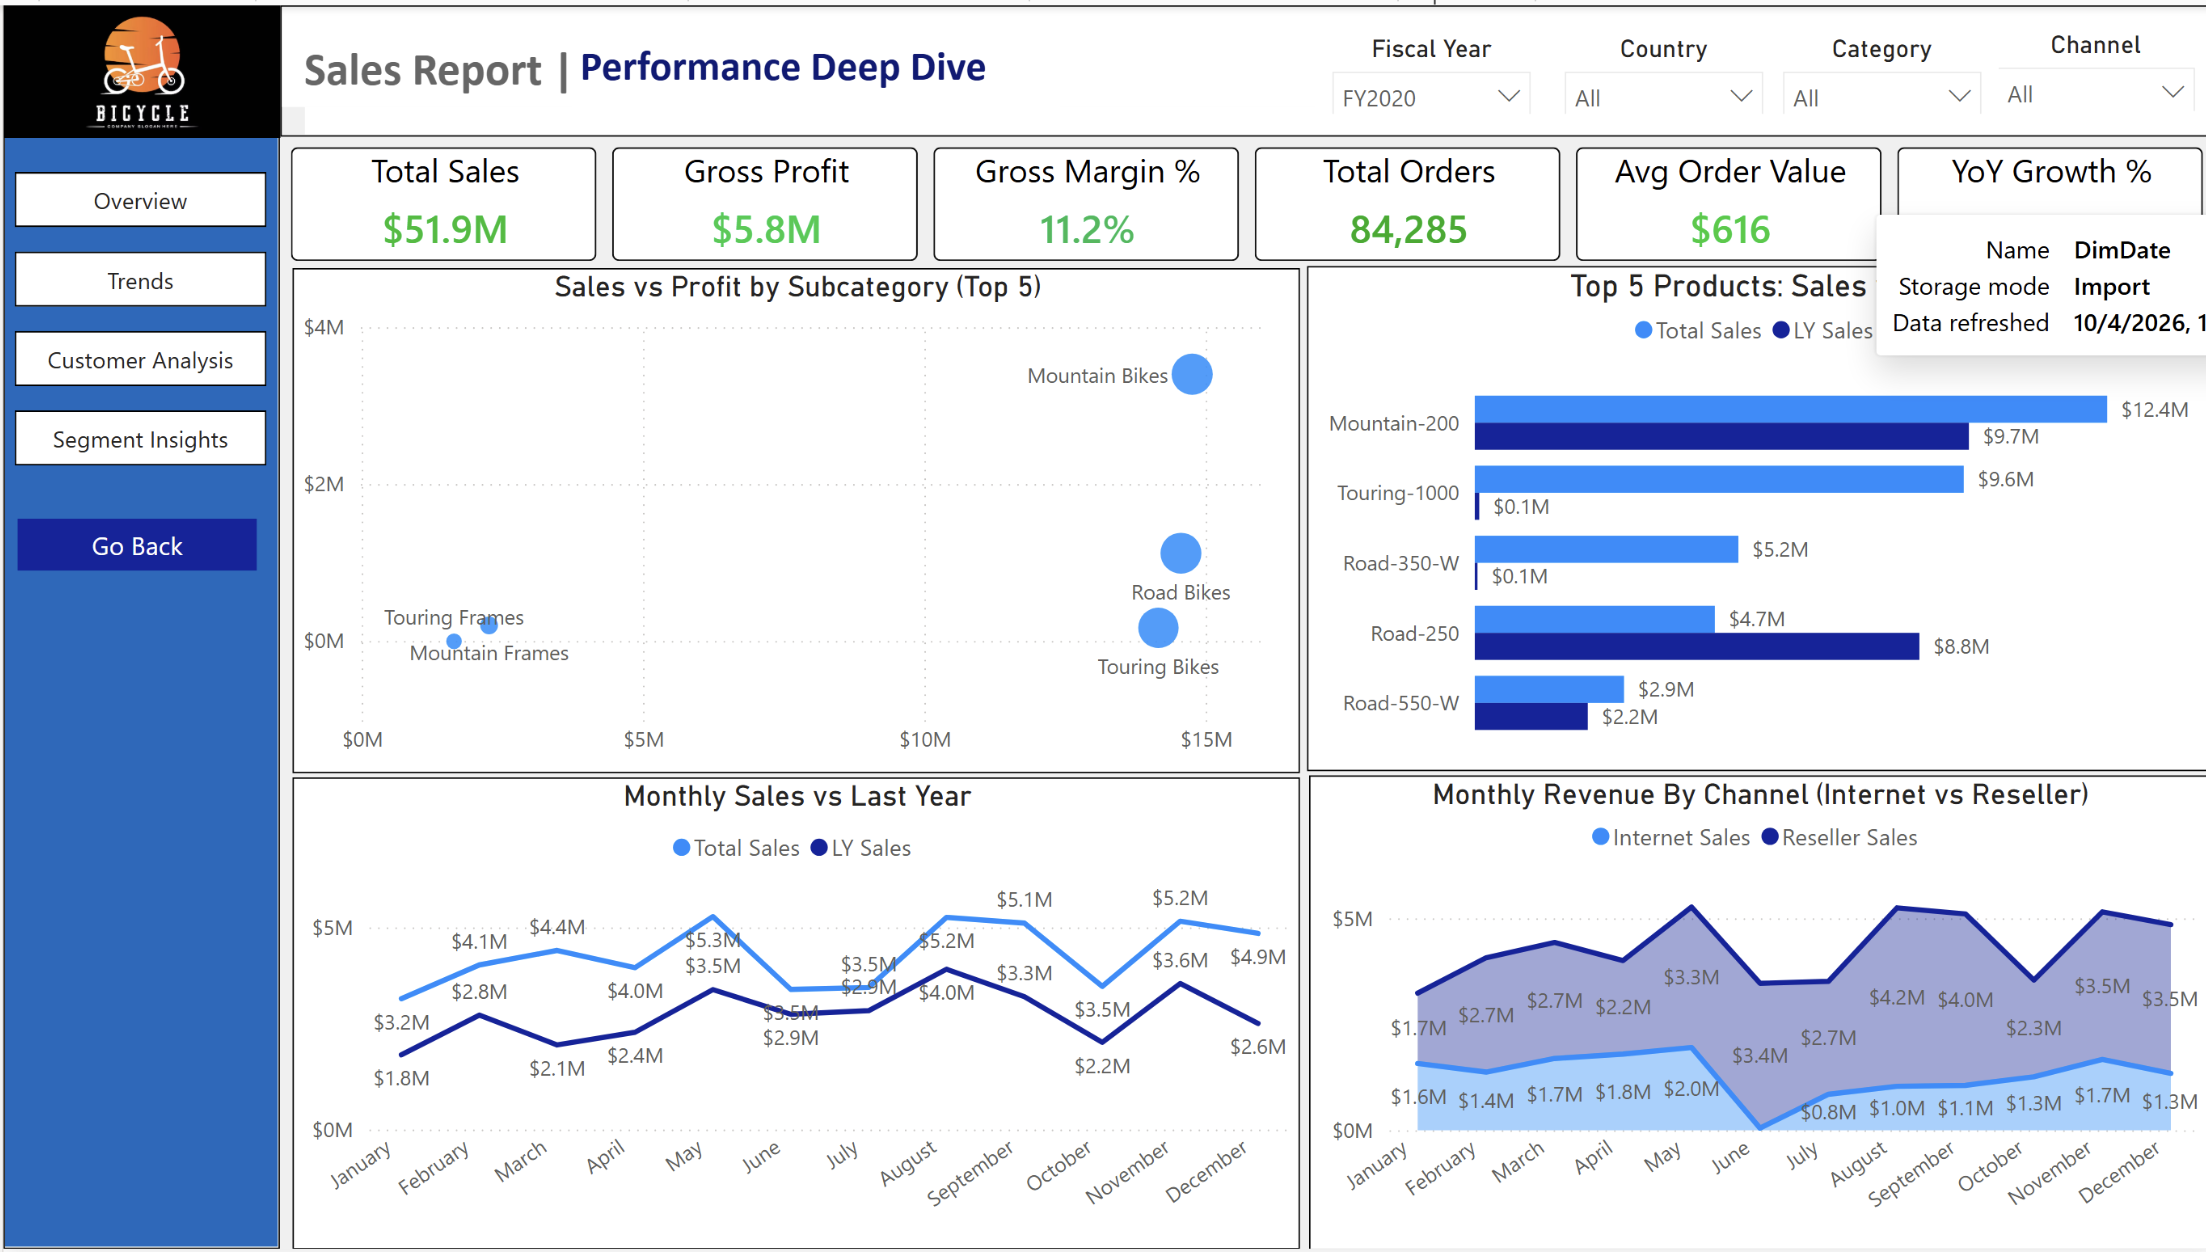

This screenshot's page, from the dashboard's own definition file:
{"tool":"powerbi","page":{"name":"Deep Dive","canvas":[1280,720],"ordinal":4},"visuals":[{"type":"shape","box":[0,0,160,720],"z":0},{"type":"shape","title":"Sales Report | ","box":[159.8,0,1120.2,76.2],"z":1000},{"type":"textbox","box":[328.9,15.8,282.9,46.1],"z":2000},{"type":"scatterChart","title":"Sales vs Profit by Subcategory (Top 5)","fields":{"X":["Measures_.Total Sales"],"Y":["Measures_.Gross Profit"],"Category":["DimProduct.Subcategory"],"Size":["Measures_.Product Contribution %"]},"box":[167.3,152.4,583.2,292.2],"z":4000},{"type":"slicer","title":"Fiscal Year","fields":{"Values":["DimDate.Fiscal Year","DimDate.Month"]},"box":[759.3,16.2,134.9,46.2],"z":5000},{"type":"slicer","title":"Country","fields":{"Values":["DimSalesTerritory.Country"]},"box":[894.1,16.2,134.9,46.2],"z":6000},{"type":"slicer","title":"Channel","fields":{"Values":["DimSalesOrder.Channel"]},"box":[1144.3,14.3,134.3,47.1],"z":7000},{"type":"slicer","title":"Category","fields":{"Values":["DimProduct.Category"]},"box":[1020.3,16.2,134.9,46.2],"z":8000},{"type":"clusteredBarChart","title":"Top 5 Products: Sales vs LY","fields":{"Y":["Measures_.Total Sales","Measures_.LY Sales"],"Category":["DimProduct.Model"]},"box":[754.3,151.1,522,292.2],"z":9000},{"type":"stackedAreaChart","title":"Monthly Revenue By Channel (Internet vs Reseller)","fields":{"Category":["DimDate.Month"],"Y":["Measures_.Internet Sales","Measures_.Reseller Sales"]},"box":[755.5,445.8,520.7,274.7],"z":10000},{"type":"lineChart","title":"Monthly Sales vs Last Year","fields":{"Category":["DimDate.Month"],"Y":["Measures_.Total Sales","Measures_.LY Sales"]},"box":[167,447,583,273],"z":11000},{"type":"pageNavigator","title":"Select View","box":[2.5,91.2,154.8,184.8],"z":12000},{"type":"cardVisual","fields":{"Data":["Measures_.Total Sales","Measures_.Gross Profit","Measures_.Gross Margin %","Measures_.Total Orders","Measures_.Avg Order Value","Measures_.YoY Growth %"]},"box":[159.8,76.2,1120.2,78.7],"z":13000},{"type":"textbox","box":[8.6,297.1,138.6,30],"z":14000},{"type":"image","box":[0,0,160.5,76.7],"z":14001}]}

Visuals, with their boxes on the page's 1280x720 design canvas (x1, y1, x2, y2). These are canvas units, not pixel positions in the 2206x1252 screenshot, which may show the page scaled, cropped or inside an application window:
shape: (left=0, top=0, right=160, bottom=720)
"Sales Report | " shape: (left=160, top=0, right=1280, bottom=76)
textbox: (left=329, top=16, right=612, bottom=62)
"Sales vs Profit by Subcategory (Top 5)" scatterChart: (left=167, top=152, right=750, bottom=445)
"Fiscal Year" slicer: (left=759, top=16, right=894, bottom=62)
"Country" slicer: (left=894, top=16, right=1029, bottom=62)
"Channel" slicer: (left=1144, top=14, right=1279, bottom=61)
"Category" slicer: (left=1020, top=16, right=1155, bottom=62)
"Top 5 Products: Sales vs LY" clusteredBarChart: (left=754, top=151, right=1276, bottom=443)
"Monthly Revenue By Channel (Internet vs Reseller)" stackedAreaChart: (left=756, top=446, right=1276, bottom=720)
"Monthly Sales vs Last Year" lineChart: (left=167, top=447, right=750, bottom=720)
"Select View" pageNavigator: (left=2, top=91, right=157, bottom=276)
cardVisual - Measures_.Total Sales x Measures_.Gross Profit: (left=160, top=76, right=1280, bottom=155)
textbox: (left=9, top=297, right=147, bottom=327)
image: (left=0, top=0, right=160, bottom=77)
